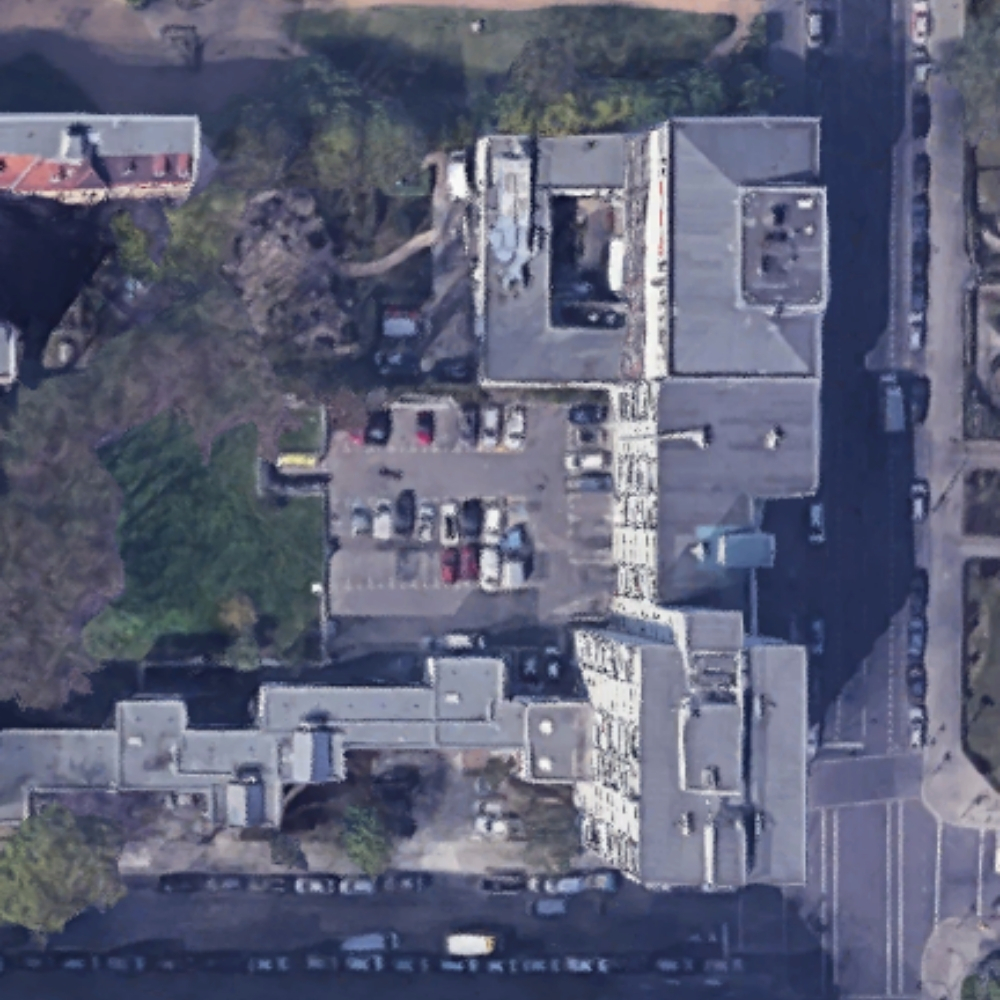parking: (325, 385, 620, 690)
